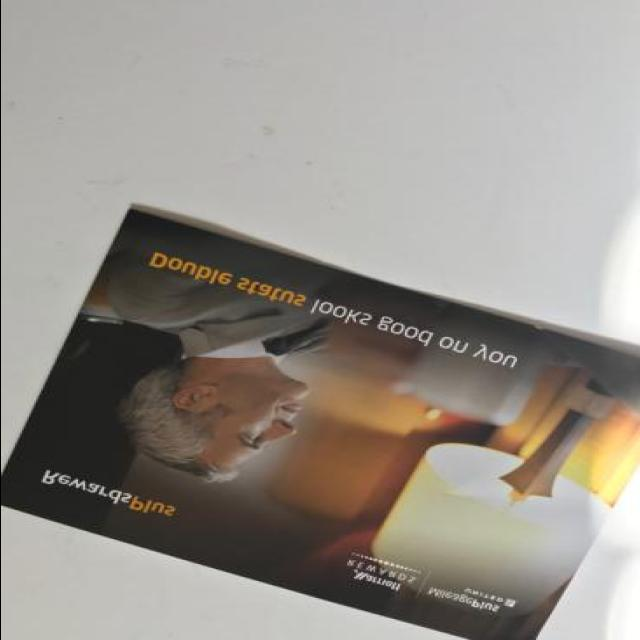kertas: (0, 203, 640, 640)
